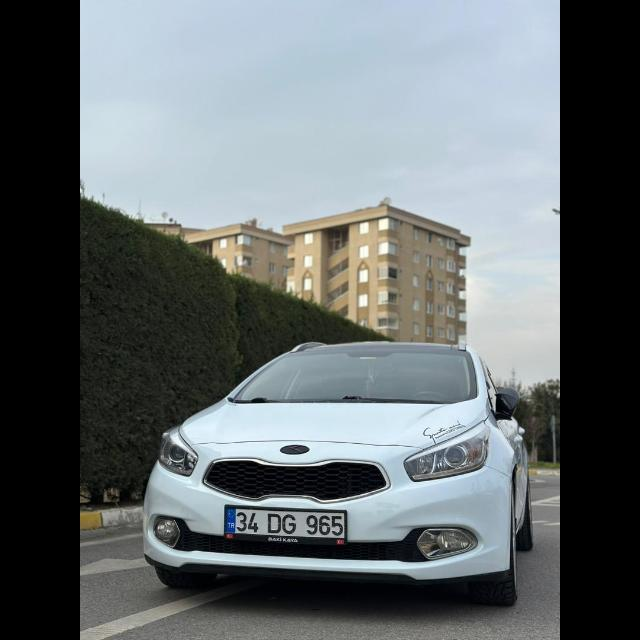Plaka: (226, 508, 346, 536)
